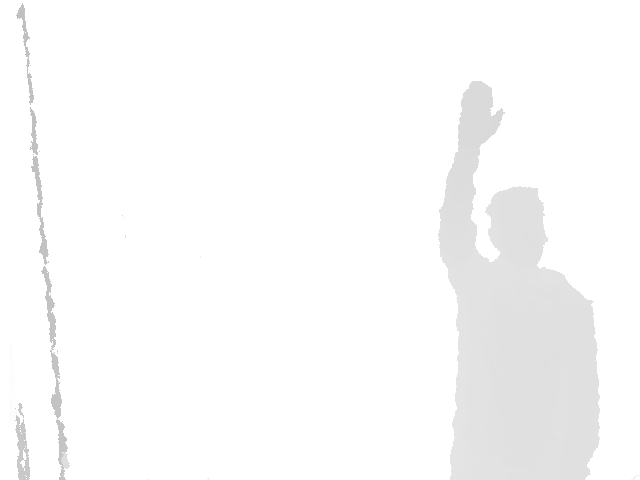hand: (457, 80, 505, 150)
head: (486, 185, 548, 264)
person: (438, 80, 600, 480)
